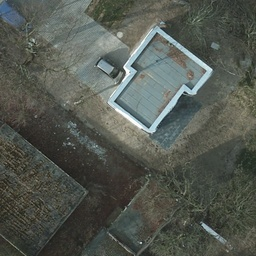car: (95, 55, 123, 84)
